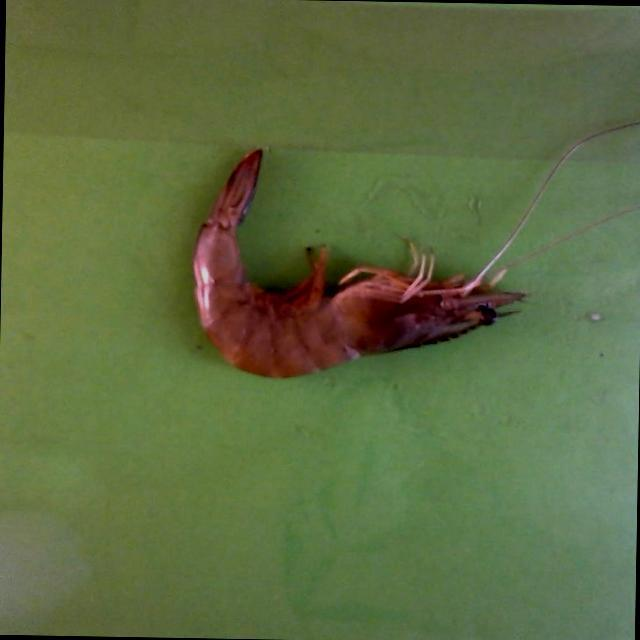shrimp: (193, 150, 525, 377)
